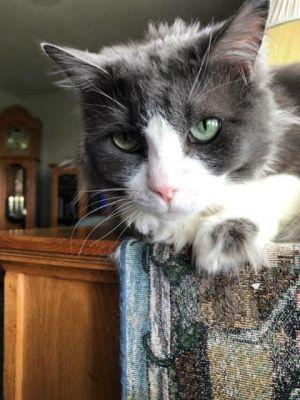ragdoll: (30, 1, 279, 222)
